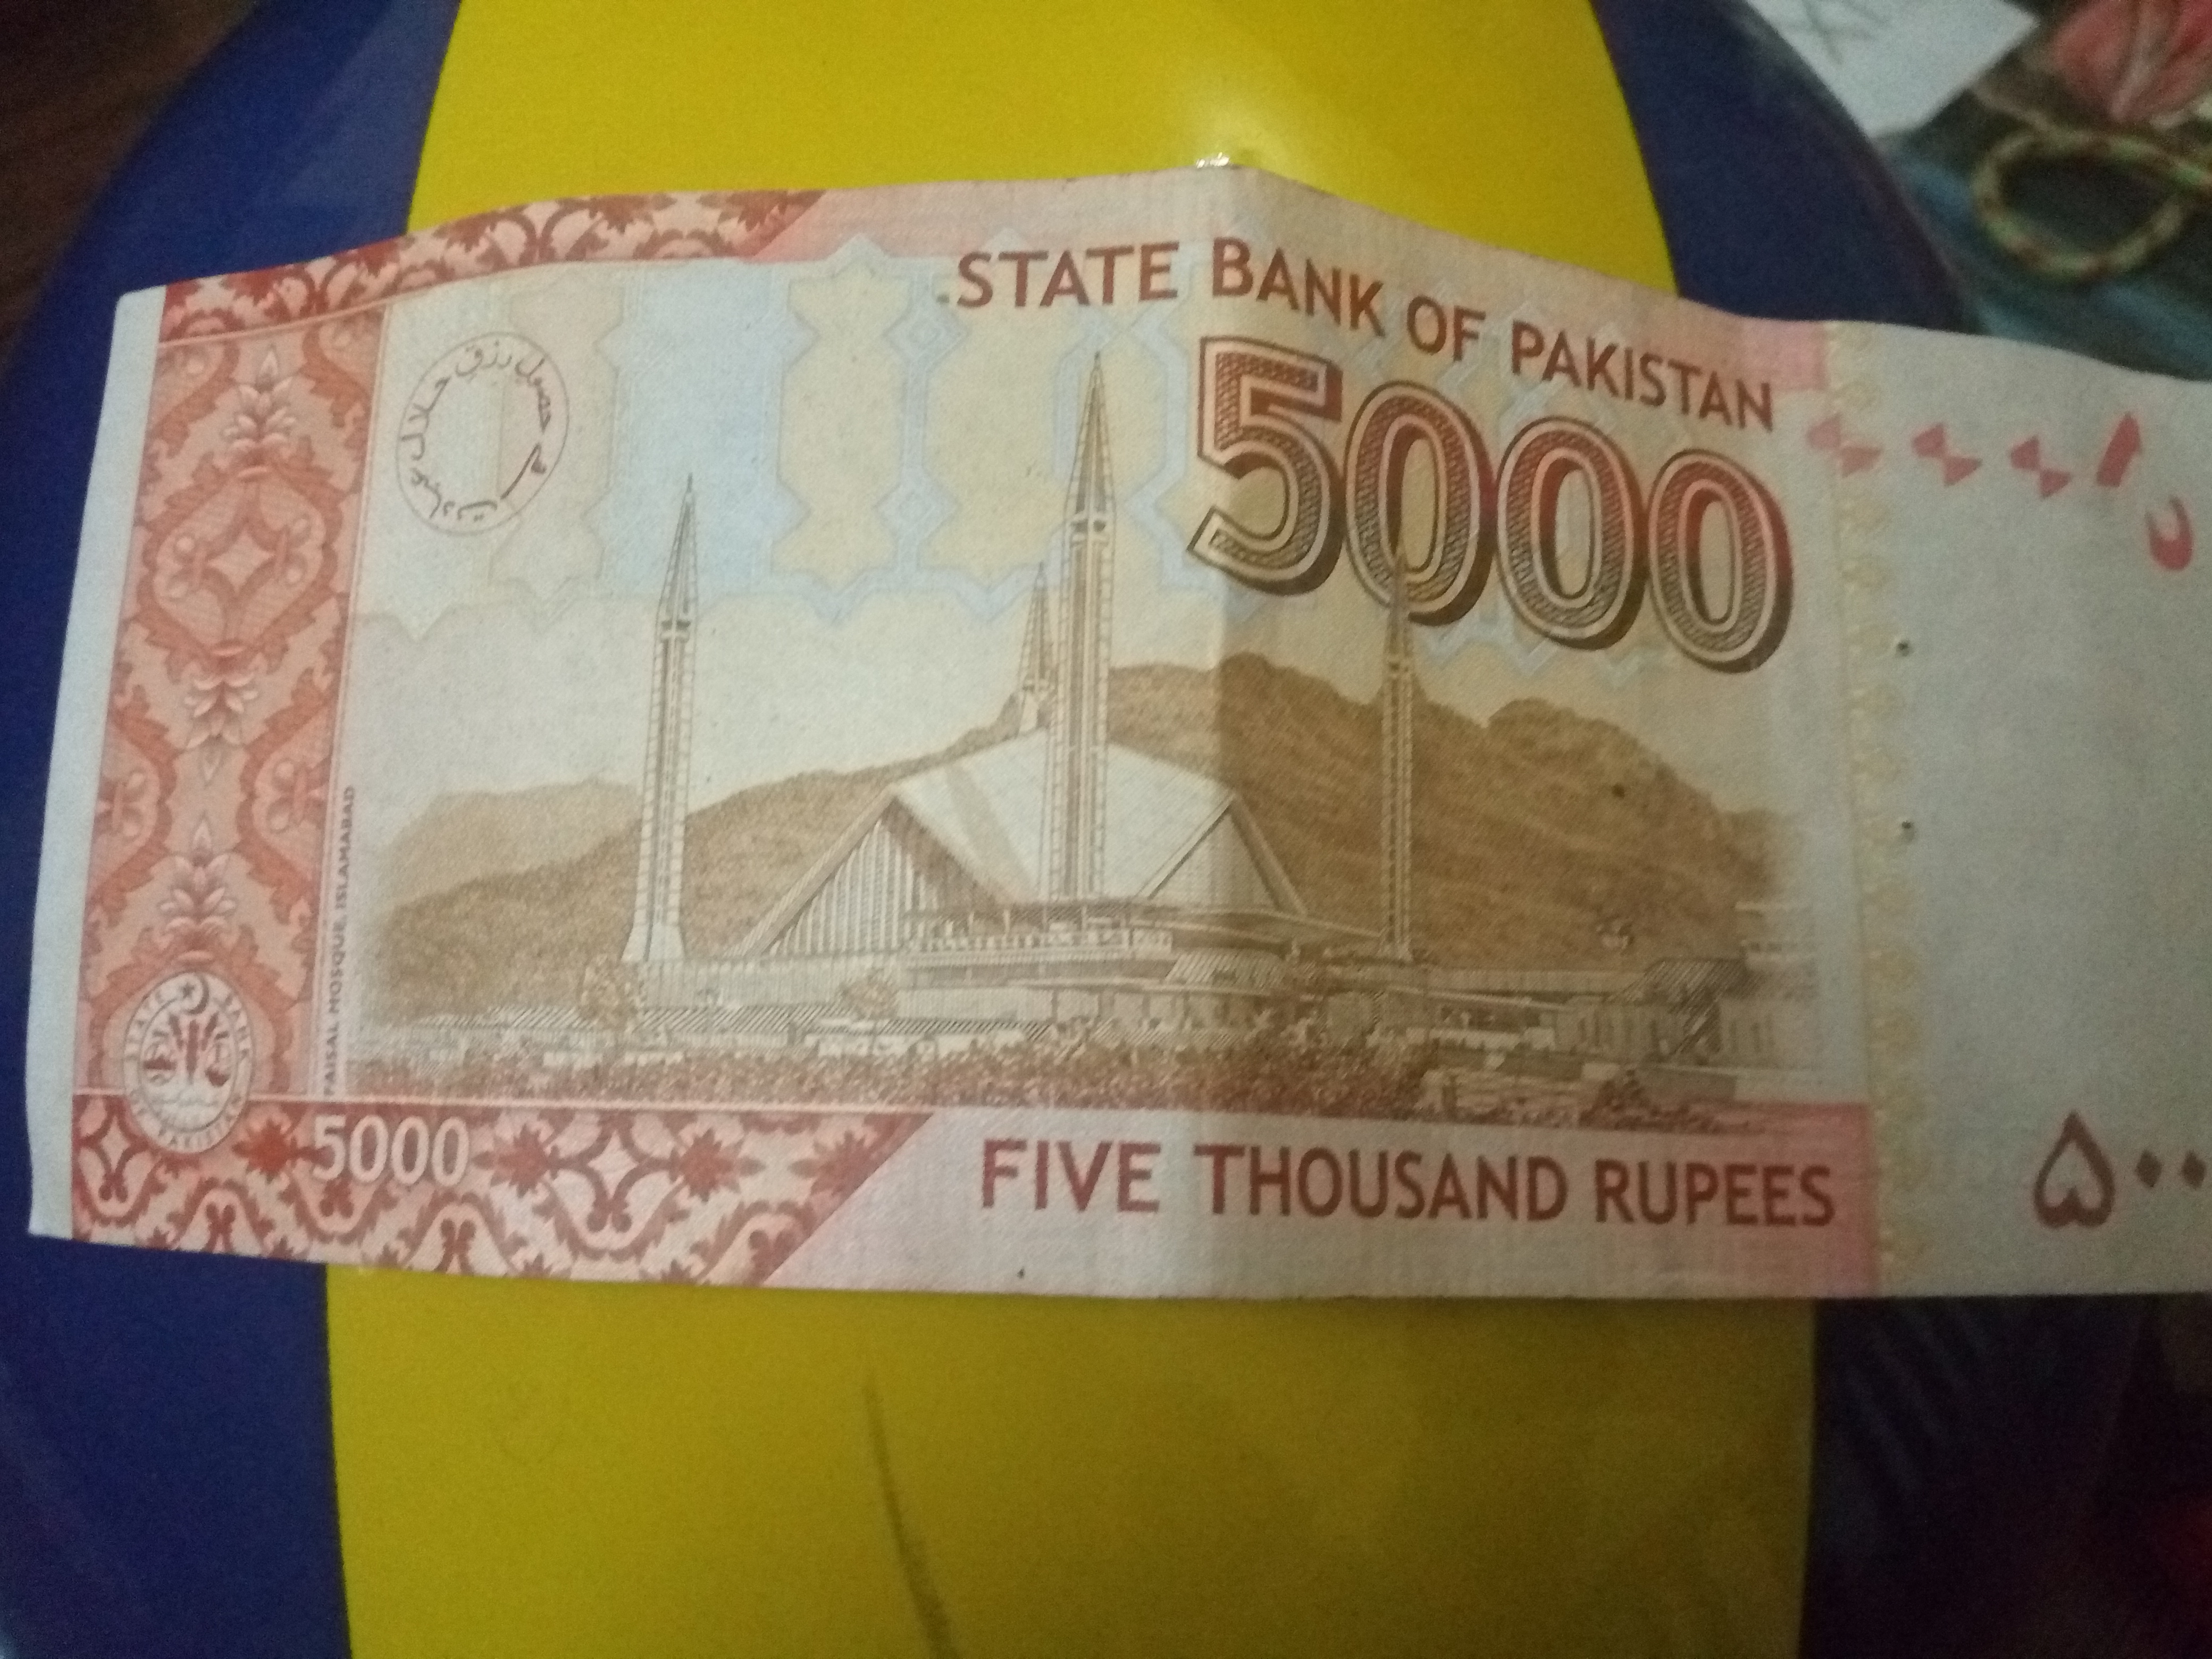5000 rupee: (44, 211, 2179, 1373)
